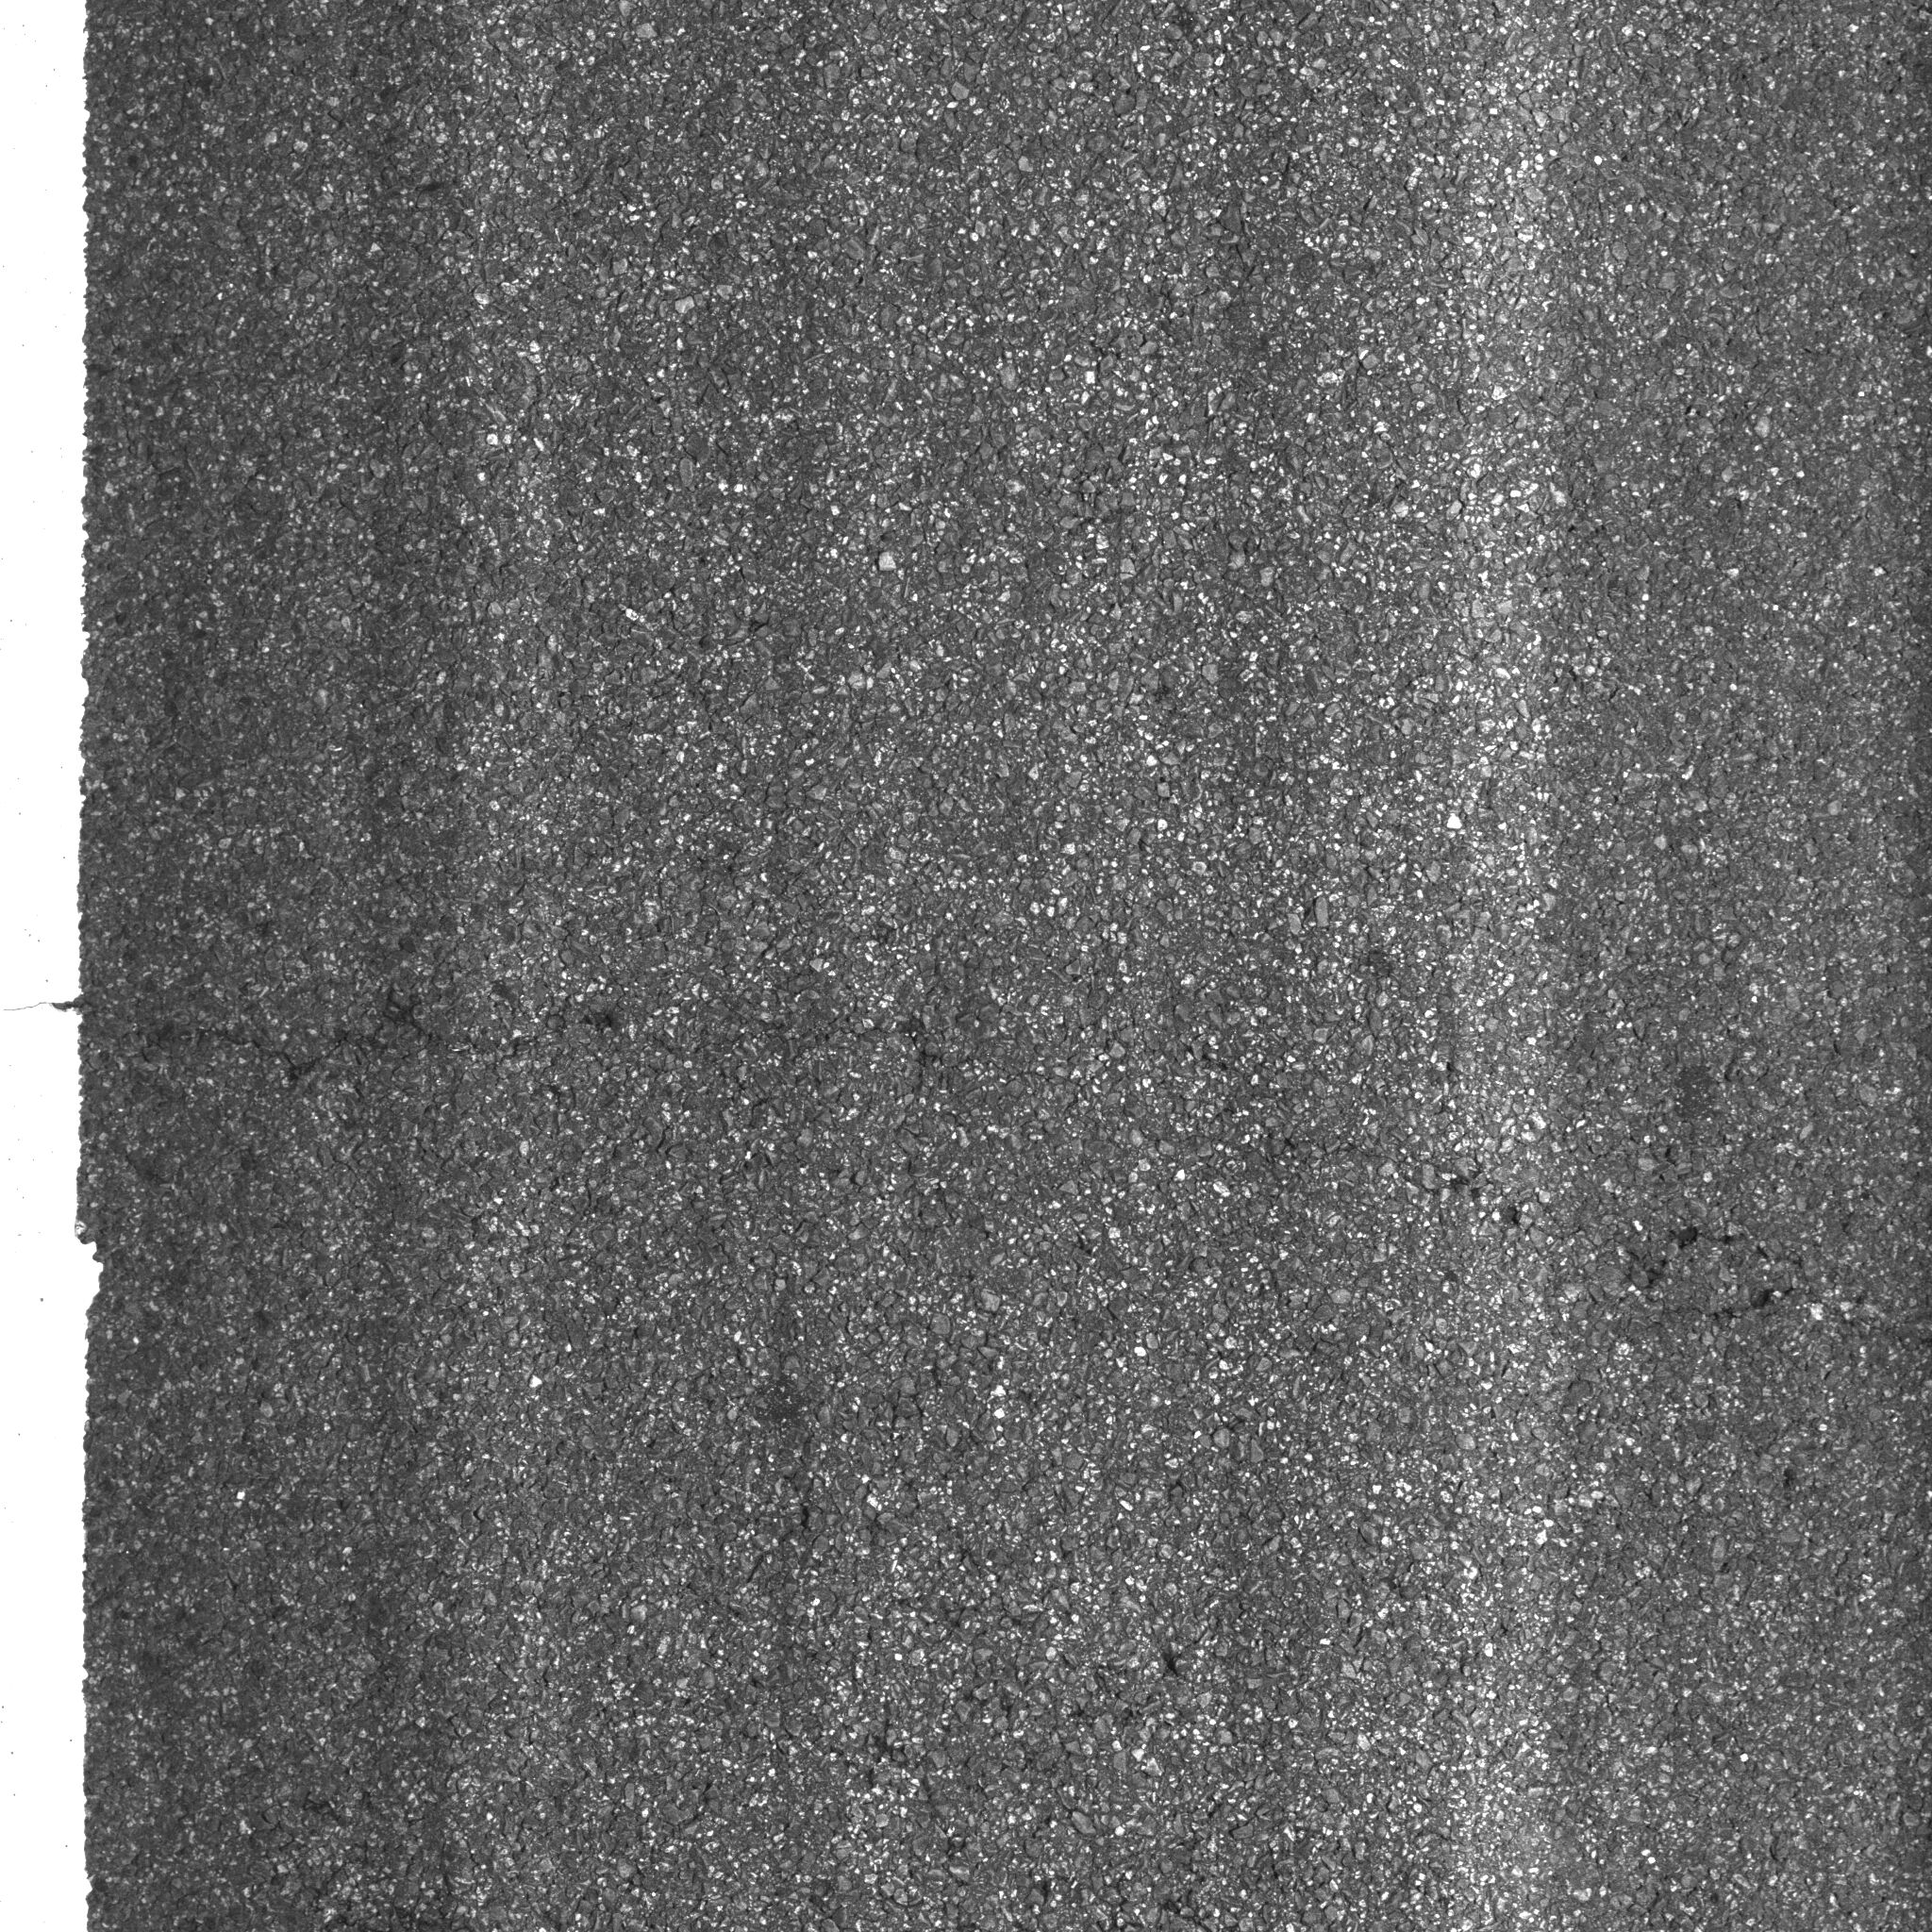transeverse: (119, 985, 1849, 1346)
